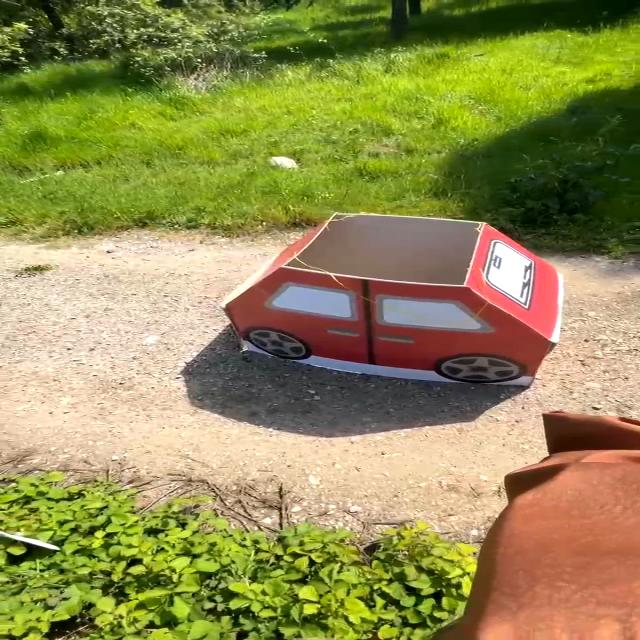red_car: (212, 198, 584, 399)
